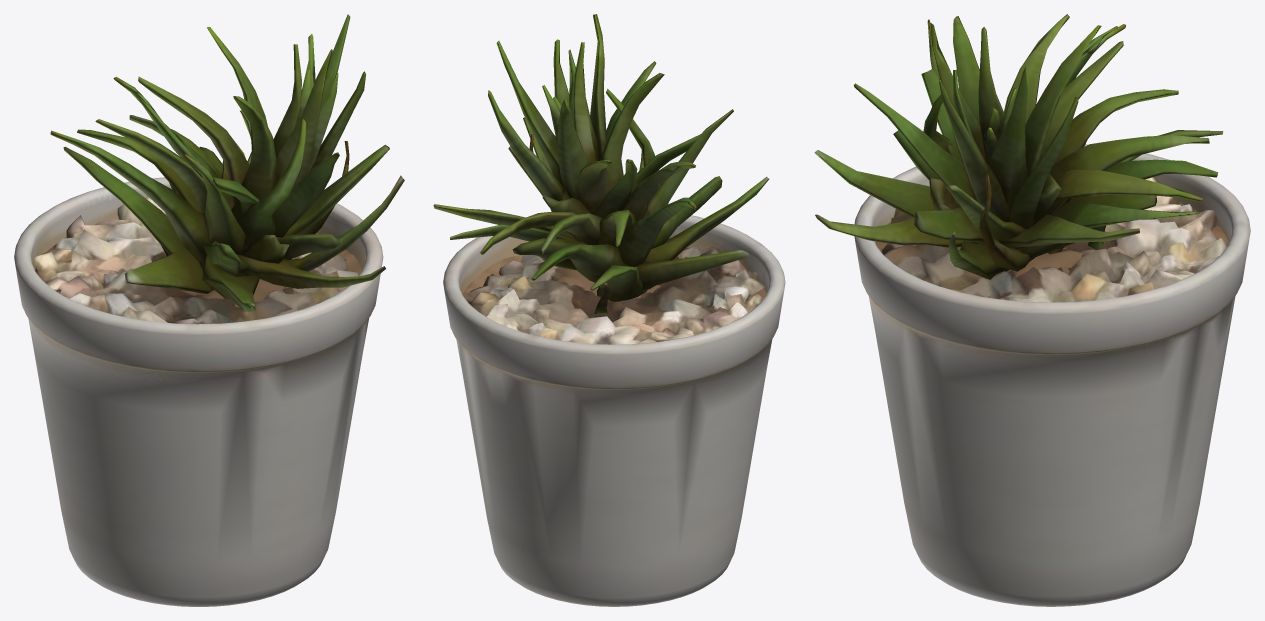
Rendered from plant.glb.
The picture shows the model from 3 angles, left to right: view 1: azimuth 30°, elevation 25°; view 2: azimuth 150°, elevation 25°; view 3: azimuth 270°, elevation 25°; orthographic projection. The views are drawn at different scales.
Parts seen in each view (by area): view 1: potted_plant_04_pot, potted_plant_04_plant, potted_plant_04_ground, potted_plant_04_dirt; view 2: potted_plant_04_pot, potted_plant_04_plant, potted_plant_04_ground, potted_plant_04_dirt; view 3: potted_plant_04_pot, potted_plant_04_plant, potted_plant_04_ground, potted_plant_04_dirt.
Boxes of the visible parts, left/top/right/bottom form: potted_plant_04_pot: left=14, top=177, right=383, bottom=606; potted_plant_04_plant: left=50, top=14, right=404, bottom=311; potted_plant_04_ground: left=34, top=196, right=357, bottom=324; potted_plant_04_dirt: left=34, top=233, right=362, bottom=307; potted_plant_04_pot: left=443, top=215, right=785, bottom=606; potted_plant_04_plant: left=433, top=14, right=769, bottom=313; potted_plant_04_ground: left=463, top=247, right=766, bottom=344; potted_plant_04_dirt: left=462, top=247, right=766, bottom=306; potted_plant_04_pot: left=854, top=144, right=1250, bottom=606; potted_plant_04_plant: left=814, top=14, right=1223, bottom=279; potted_plant_04_ground: left=881, top=177, right=1227, bottom=302; potted_plant_04_dirt: left=875, top=200, right=1228, bottom=297.
Size of the model in its own units: 0.1679 by 0.2672 by 0.1845.
1 material, 1 textured.
